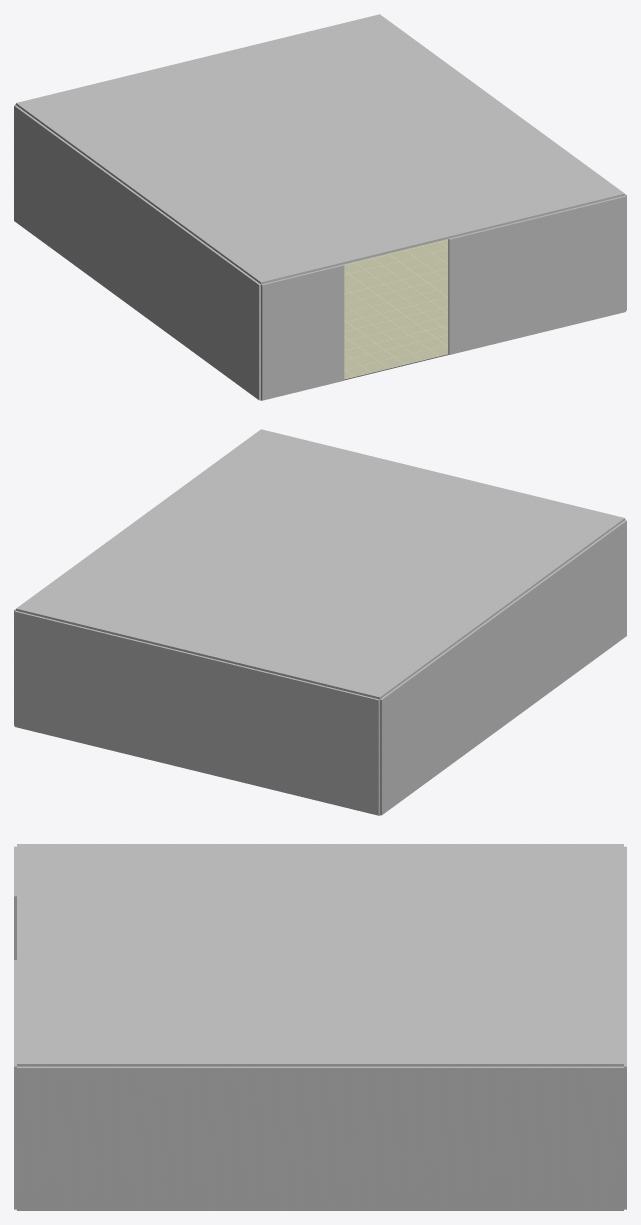
The model's file is Lab.gltf.
The picture shows the model from 3 angles, top to bottom: view 1: azimuth 30°, elevation 25°; view 2: azimuth 150°, elevation 25°; view 3: azimuth 270°, elevation 25°; orthographic projection. The views are drawn at different scales.
Visible parts, largest first — view 1: Ceiling, Wall, Floor; view 2: Ceiling, Wall; view 3: Ceiling, Wall.
Boxes of the visible parts, x1,y1,x2,y2 form: Ceiling: (16,14,624,284); Wall: (14,104,626,400); Floor: (260,239,448,400); Ceiling: (16,429,624,699); Wall: (14,519,626,815); Ceiling: (17,844,623,1066); Wall: (14,846,626,1210).
Bounding box in the file's own units: 9.1 × 2.8 × 10.6.
Materials: 3 (2 with a texture image).
